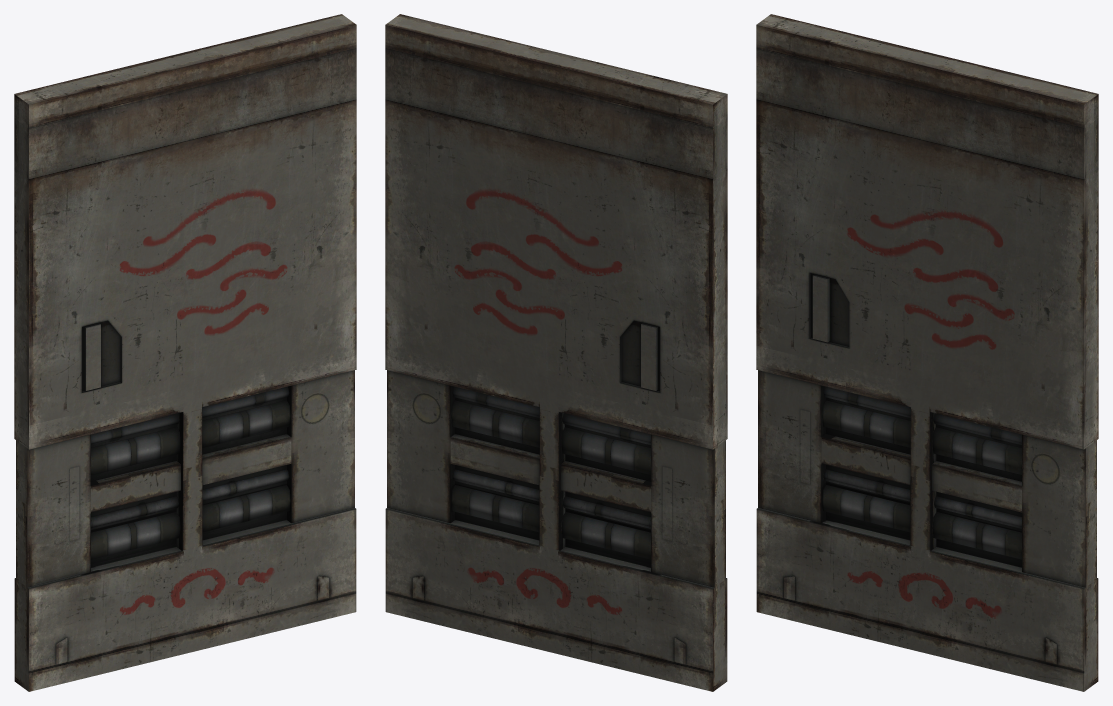
File: exit_flesher_door.dae
The picture shows the model from 3 angles, left to right: view 1: azimuth 30°, elevation 25°; view 2: azimuth 150°, elevation 25°; view 3: azimuth 330°, elevation 25°; orthographic projection.
Parts seen in each view (by area): view 1: polymsh_detached; view 2: polymsh_detached; view 3: polymsh_detached.
Part boxes in pixels (x1,y1,x2,y2): polymsh_detached: [14, 14, 356, 691]; polymsh_detached: [385, 14, 727, 691]; polymsh_detached: [756, 14, 1098, 691].
Size of the model in its own units: 1.61 by 2.76 by 0.1295.
